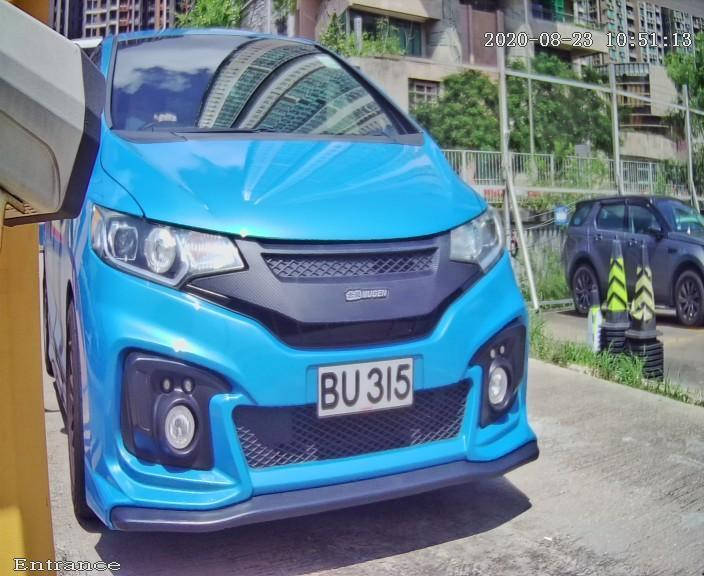Car: (38, 13, 573, 553)
License Plate: (305, 350, 422, 425)
